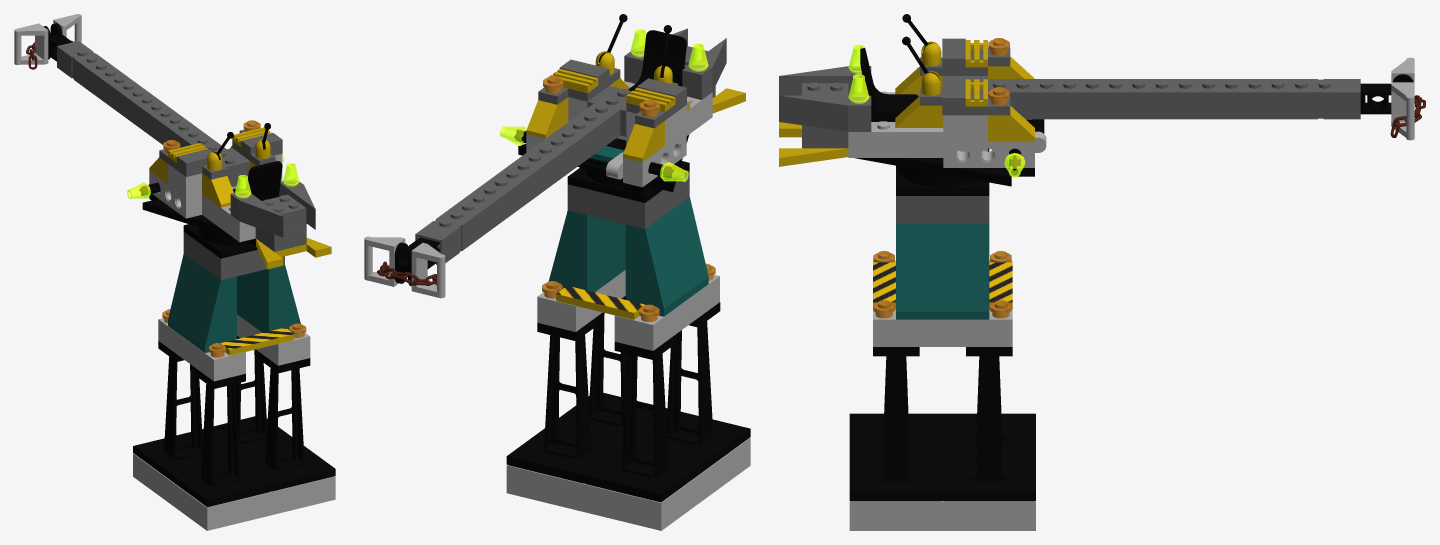
File: UpgradeStation1.fbx
The picture shows the model from 3 angles, left to right: view 1: azimuth 30°, elevation 25°; view 2: azimuth 150°, elevation 25°; view 3: azimuth 270°, elevation 25°; orthographic projection. The views are drawn at different scales.
Parts seen in each view (by area): view 1: Duplicate21.000, Duplicate21.001, Duplicate21.004, Duplicate21.006, Duplicate21.002, Duplicate21.007, Duplicate21.010, Duplicate21.008, Duplicate21.009, Duplicate21.005, Duplicate21.003; view 2: Duplicate21.000, Duplicate21.001, Duplicate21.004, Duplicate21.008, Duplicate21.007, Duplicate21.002, Duplicate21.009, Duplicate21.006, Duplicate21.005, Duplicate21.010, Duplicate21.003; view 3: Duplicate21.000, Duplicate21.004, Duplicate21.001, Duplicate21.002, Duplicate21.009, Duplicate21.010, Duplicate21.007, Duplicate21.008, Duplicate21.006, Duplicate21.005, Duplicate21.003.
Part boxes in pixels (x1=…): Duplicate21.000: x1=127, y1=120, x2=331, y2=269; Duplicate21.001: x1=168, y1=232, x2=300, y2=352; Duplicate21.004: x1=57, y1=41, x2=250, y2=186; Duplicate21.006: x1=170, y1=368, x2=271, y2=507; Duplicate21.002: x1=158, y1=309, x2=310, y2=381; Duplicate21.007: x1=133, y1=453, x2=335, y2=530; Duplicate21.010: x1=239, y1=352, x2=335, y2=491; Duplicate21.008: x1=133, y1=341, x2=227, y2=479; Duplicate21.009: x1=202, y1=336, x2=292, y2=456; Duplicate21.005: x1=14, y1=14, x2=81, y2=69; Duplicate21.003: x1=183, y1=224, x2=257, y2=258; Duplicate21.000: x1=500, y1=14, x2=745, y2=195; Duplicate21.001: x1=548, y1=171, x2=708, y2=316; Duplicate21.004: x1=415, y1=86, x2=631, y2=264; Duplicate21.008: x1=584, y1=335, x2=705, y2=502; Duplicate21.007: x1=506, y1=437, x2=750, y2=530; Duplicate21.002: x1=537, y1=262, x2=719, y2=350; Duplicate21.009: x1=506, y1=316, x2=622, y2=483; Duplicate21.006: x1=636, y1=302, x2=750, y2=469; Duplicate21.005: x1=364, y1=236, x2=445, y2=298; Duplicate21.010: x1=558, y1=296, x2=667, y2=440; Duplicate21.003: x1=567, y1=161, x2=689, y2=202; Duplicate21.000: x1=779, y1=14, x2=1046, y2=186; Duplicate21.004: x1=942, y1=76, x2=1360, y2=119; Duplicate21.001: x1=896, y1=196, x2=989, y2=319; Duplicate21.002: x1=873, y1=251, x2=1012, y2=346; Duplicate21.009: x1=942, y1=347, x2=1035, y2=501; Duplicate21.010: x1=849, y1=347, x2=942, y2=501; Duplicate21.007: x1=849, y1=501, x2=1035, y2=530; Duplicate21.008: x1=942, y1=356, x2=1035, y2=452; Duplicate21.006: x1=849, y1=356, x2=942, y2=452; Duplicate21.005: x1=1360, y1=57, x2=1425, y2=140; Duplicate21.003: x1=896, y1=148, x2=989, y2=195.
Bounding box in the file's own units: 0.4729 × 1.1 × 1.39.
